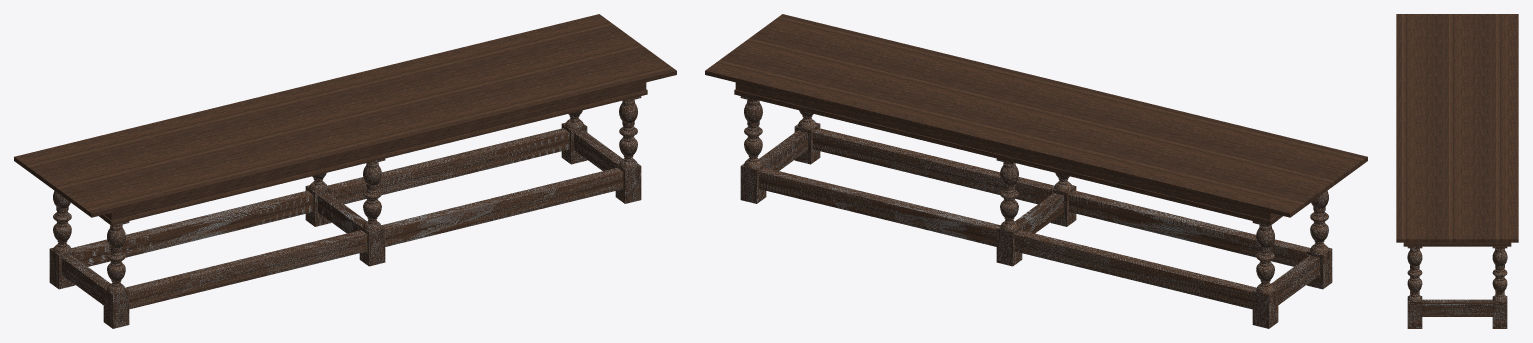
The model's file is DiningTable.dae.
3 views of the same model, side by side, from view 1: azimuth 30°, elevation 25°; view 2: azimuth 150°, elevation 25°; view 3: azimuth 270°, elevation 25° (orthographic). The views are drawn at different scales.
Visible parts, largest first — view 1: group_1 (×2), Group_5 (×4), Group_3 (×4), Group_2 (×6), Group_6 (×3); view 2: group_1 (×2), Group_5 (×4), Group_3 (×4), Group_2 (×6), Group_6 (×3); view 3: group_1 (×4), Group_3 (×2), Group_6, Group_2 (×2).
Part boxes in pixels (left/top/right/bottom): group_1 (×2): left=14, top=14, right=676, bottom=225; Group_5 (×4): left=71, top=128, right=623, bottom=309; Group_3 (×4): left=53, top=100, right=637, bottom=293; Group_2 (×6): left=49, top=122, right=641, bottom=328; Group_6 (×3): left=62, top=130, right=622, bottom=304; group_1 (×2): left=705, top=14, right=1367, bottom=225; Group_5 (×4): left=758, top=128, right=1310, bottom=309; Group_3 (×4): left=744, top=100, right=1328, bottom=293; Group_2 (×6): left=740, top=122, right=1332, bottom=328; Group_6 (×3): left=759, top=130, right=1319, bottom=304; group_1 (×4): left=1396, top=14, right=1518, bottom=246; Group_3 (×2): left=1407, top=248, right=1507, bottom=301; Group_6: left=1422, top=299, right=1492, bottom=316; Group_2 (×2): left=1407, top=296, right=1507, bottom=328.
Bounding box in the file's own units: 144 × 33 × 30.
